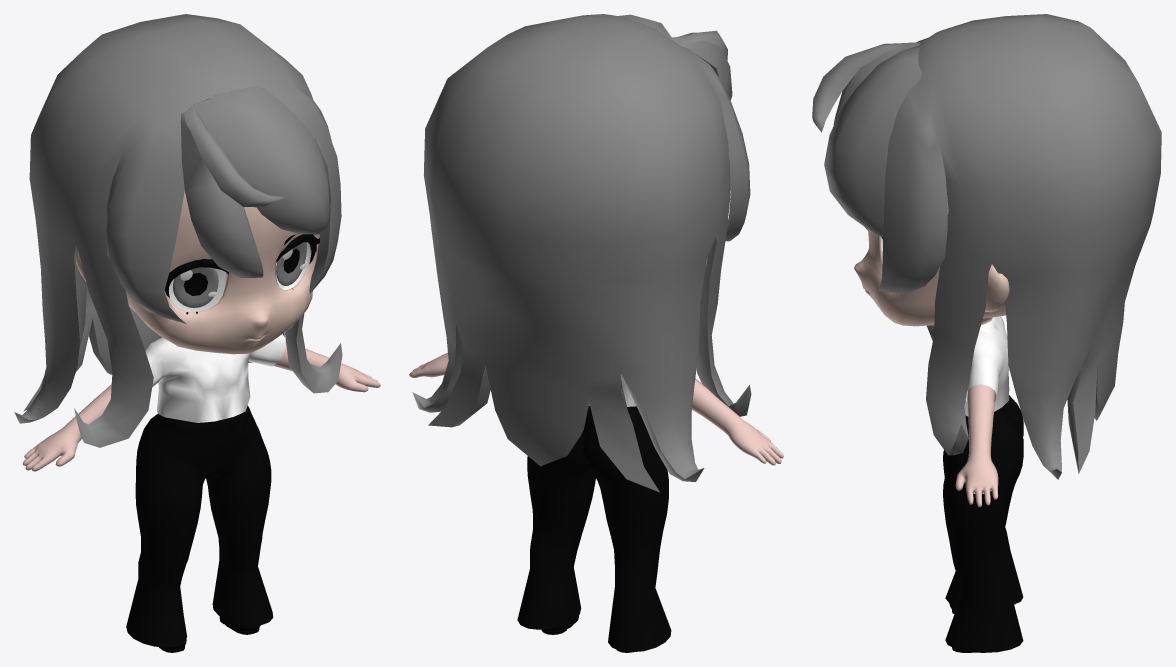
File: Customer.fbx
3 views of the same model, side by side, from view 1: azimuth 30°, elevation 25°; view 2: azimuth 150°, elevation 25°; view 3: azimuth 270°, elevation 25° (orthographic). The views are drawn at different scales.
Parts seen in each view (by area): view 1: Maid.001; view 2: Maid.001; view 3: Maid.001.
Part boxes in pixels (<box>): Maid.001: <box>14,14,380,652</box>; Maid.001: <box>409,14,783,652</box>; Maid.001: <box>812,14,1161,652</box>.
Size of the model in its own units: 82.77 by 131 by 69.88.
